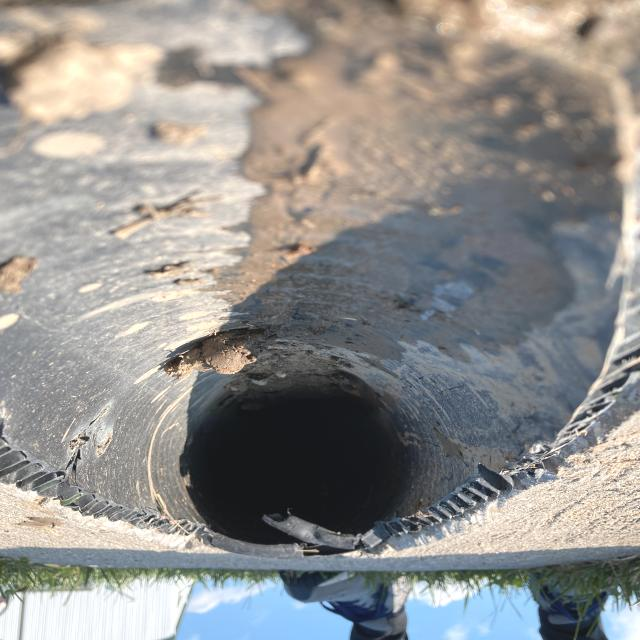dirt: (260, 111, 396, 332), (165, 340, 316, 382)
